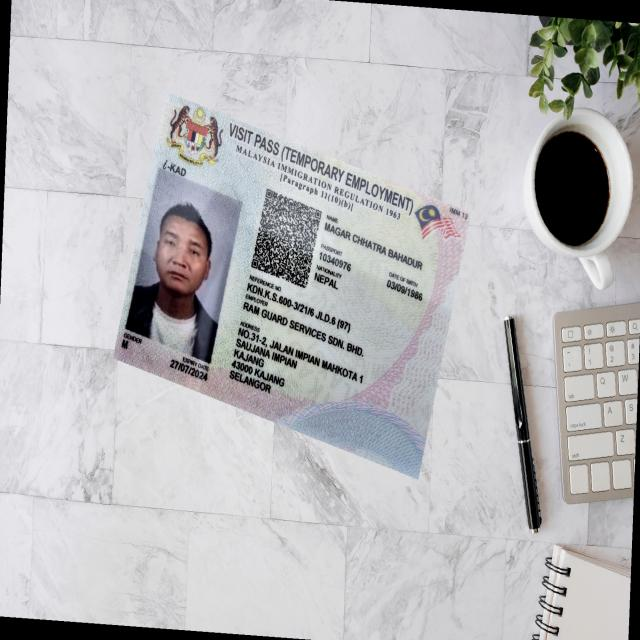ikad-temp: (113, 92, 469, 480)
